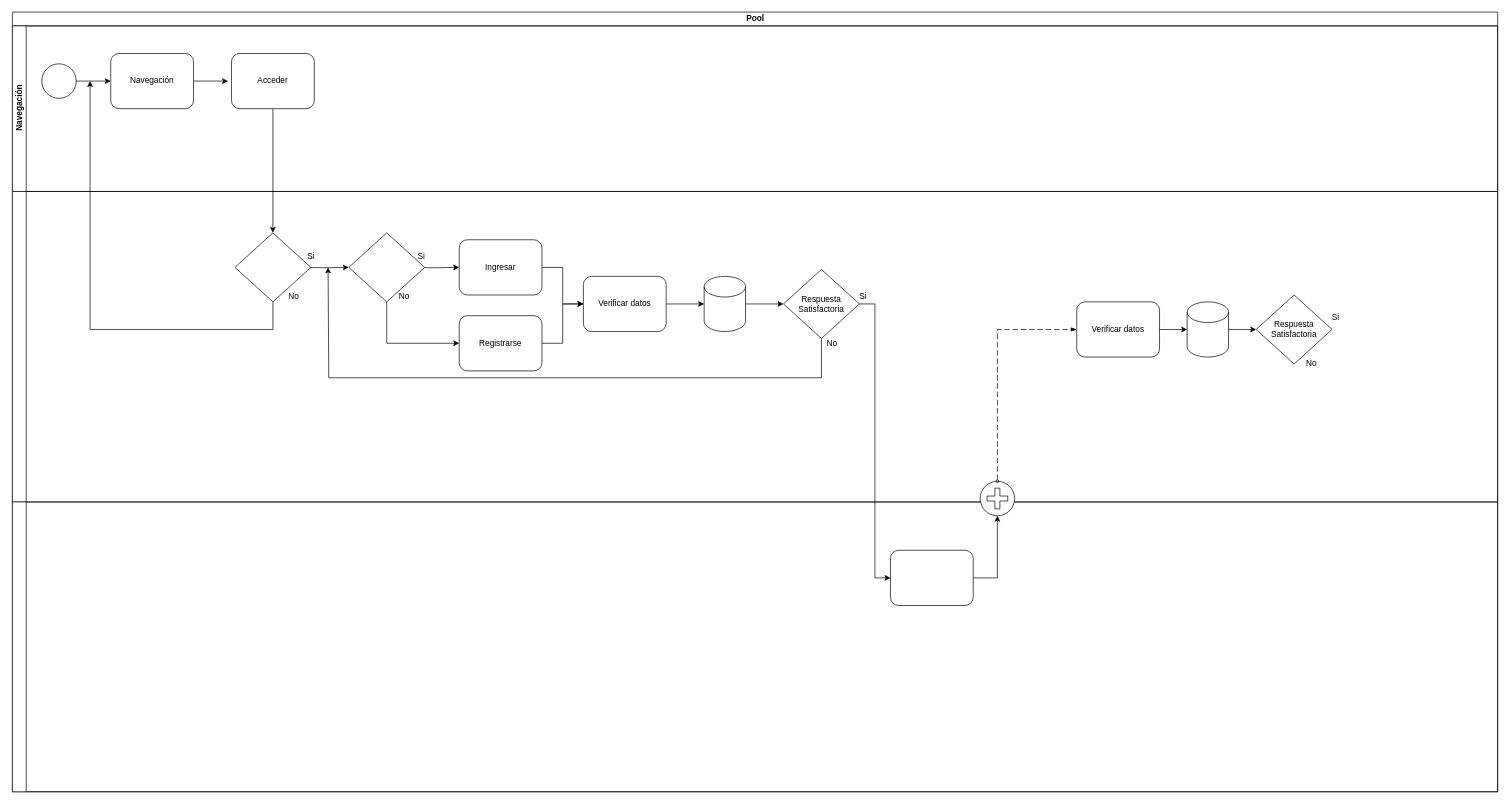
This 1510x804 diagram has some shape labels left out. Here are the shapes that lost their labels. From the top down, the box of each, then its label:
(234, 232, 311, 302): Desea acceder?
(348, 232, 425, 302): Esta registrado?
(12, 191, 1498, 502): Autenticación
(890, 550, 973, 605): Agendar cita
(12, 501, 1498, 792): Usuarios
